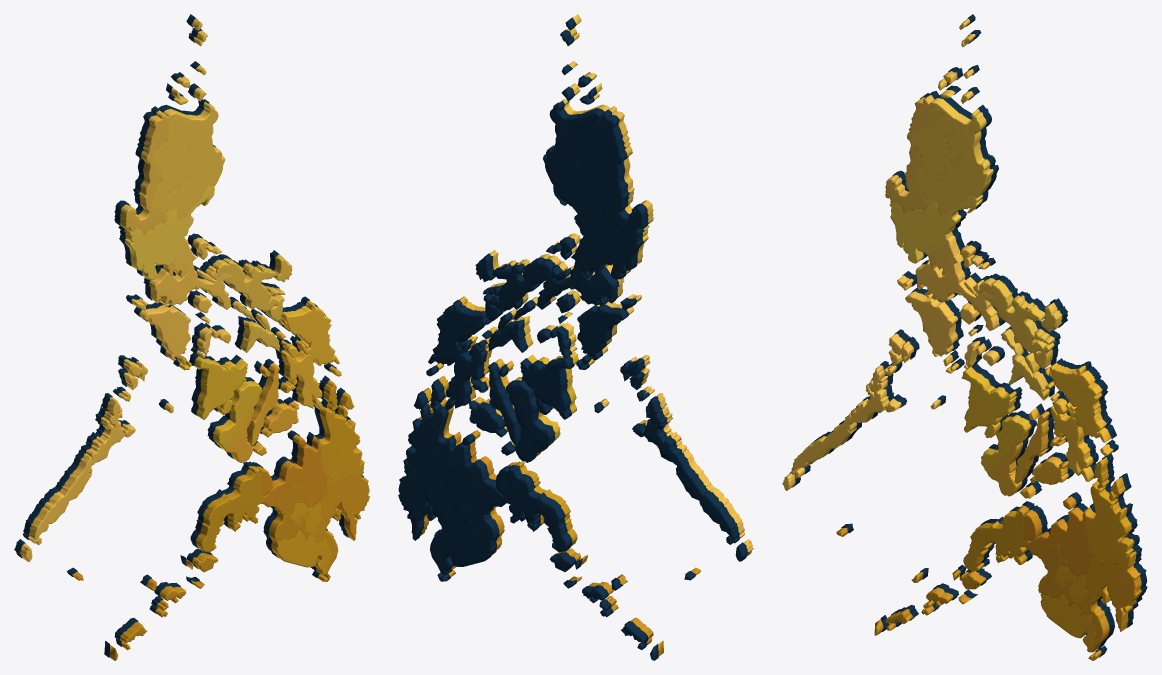
Rendered from philippines-geography-map-3d.glb.
3 views of the same model, side by side, from view 1: azimuth 30°, elevation 25°; view 2: azimuth 150°, elevation 25°; view 3: azimuth 330°, elevation 25° (orthographic). The views are drawn at different scales.
Parts seen in each view (by area): view 1: Navy_Underlay, MIMAROPA_Region, Region_II_Cagayan_Valley, Region_VIII_Eastern_Visayas, Region_VI_Western_Visayas, Region_V_Bicol_Region, Region_VII_Central_Visayas, Region_XIII_Caraga, Region_IV-A_CALABARZON, Bangsamoro_Autonomous_Region_In_Muslim_Mindanao_BARMM, Region_III_Central_Luzon, Region_IX_Zamboanga_Peninsula (+5 smaller); view 2: Navy_Underlay, MIMAROPA_Region, Bangsamoro_Autonomous_Region_In_Muslim_Mindanao_BARMM, Region_I_Ilocos_Region, Region_IX_Zamboanga_Peninsula, Region_VI_Western_Visayas, Region_V_Bicol_Region, Region_II_Cagayan_Valley, Region_VIII_Eastern_Visayas; view 3: Navy_Underlay, MIMAROPA_Region, Region_II_Cagayan_Valley, Region_V_Bicol_Region, Region_VIII_Eastern_Visayas, Region_VI_Western_Visayas, Region_XIII_Caraga, Region_IV-A_CALABARZON, Region_XI_Davao_Region, Region_VII_Central_Visayas, Region_III_Central_Luzon, Bangsamoro_Autonomous_Region_In_Muslim_Mindanao_BARMM (+5 smaller).
Boxes of the visible parts, bbox=[...] form: Navy_Underlay: bbox=[14, 14, 363, 657]; MIMAROPA_Region: bbox=[19, 294, 231, 561]; Region_II_Cagayan_Valley: bbox=[162, 18, 225, 220]; Region_VIII_Eastern_Visayas: bbox=[275, 300, 341, 410]; Region_VI_Western_Visayas: bbox=[176, 355, 262, 451]; Region_V_Bicol_Region: bbox=[212, 254, 292, 352]; Region_VII_Central_Visayas: bbox=[226, 363, 299, 462]; Region_XIII_Caraga: bbox=[313, 380, 364, 481]; Region_IV-A_CALABARZON: bbox=[149, 237, 233, 309]; Bangsamoro_Autonomous_Region_In_Muslim_Mindanao_BARMM: bbox=[72, 483, 312, 660]; Region_III_Central_Luzon: bbox=[124, 186, 214, 279]; Region_IX_Zamboanga_Peninsula: bbox=[196, 466, 265, 565]; Navy_Underlay: bbox=[398, 17, 748, 660]; MIMAROPA_Region: bbox=[545, 290, 753, 556]; Bangsamoro_Autonomous_Region_In_Muslim_Mindanao_BARMM: bbox=[490, 506, 700, 656]; Region_I_Ilocos_Region: bbox=[609, 106, 653, 223]; Region_IX_Zamboanga_Peninsula: bbox=[514, 461, 577, 556]; Region_VI_Western_Visayas: bbox=[515, 352, 594, 445]; Region_V_Bicol_Region: bbox=[489, 250, 561, 347]; Region_II_Cagayan_Valley: bbox=[554, 14, 610, 145]; Region_VIII_Eastern_Visayas: bbox=[435, 296, 497, 404]; Navy_Underlay: bbox=[789, 14, 1147, 657]; MIMAROPA_Region: bbox=[782, 275, 999, 490]; Region_II_Cagayan_Valley: bbox=[923, 18, 993, 216]; Region_V_Bicol_Region: bbox=[978, 278, 1062, 400]; Region_VIII_Eastern_Visayas: bbox=[1045, 362, 1113, 481]; Region_VI_Western_Visayas: bbox=[943, 354, 1031, 475]; Region_XIII_Caraga: bbox=[1083, 457, 1136, 568]; Region_IV-A_CALABARZON: bbox=[915, 235, 999, 330]; Region_XI_Davao_Region: bbox=[1078, 557, 1141, 660]; Region_VII_Central_Visayas: bbox=[989, 407, 1068, 498]; Region_III_Central_Luzon: bbox=[889, 194, 982, 263]; Bangsamoro_Autonomous_Region_In_Muslim_Mindanao_BARMM: bbox=[836, 528, 1076, 635].
Size of the model in its own units: 5.85 by 9.99 by 0.325.
